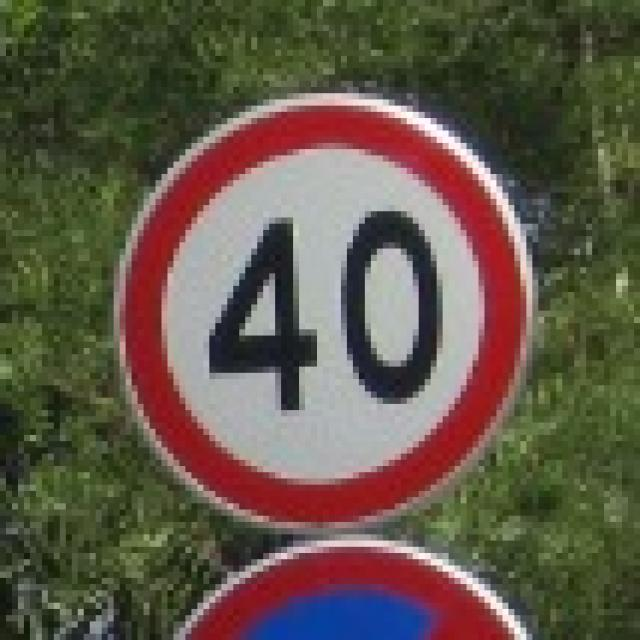Speed Limit -40-: (200, 204, 442, 410)
